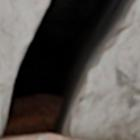brick: (11, 135, 70, 139)
crack: (0, 0, 137, 139)
